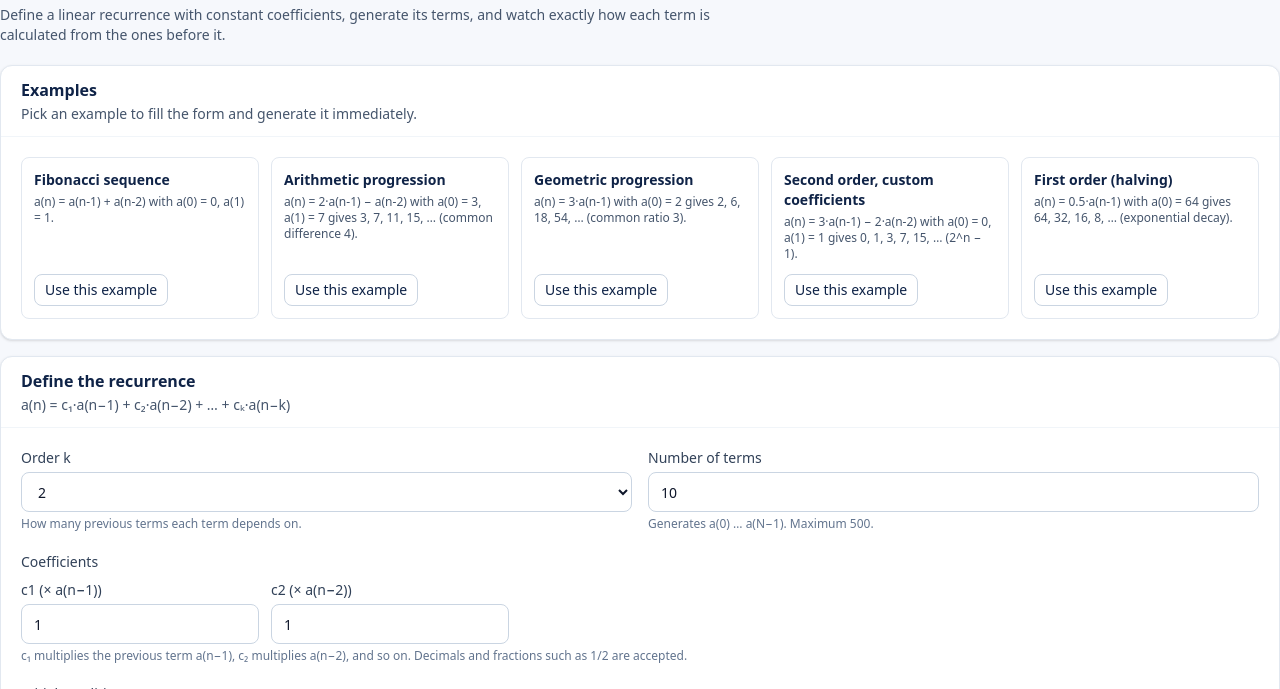
Scenario: Recurrence Lab › generates the Fibonacci example and shows formula, initial conditions and terms
This screenshot has width=1280, height=689.
Click the button with aria-label "use example: fibonacci sequence" at point(101, 290), box top-left (34, 274), bottom-right (168, 306)
(page scrolled)
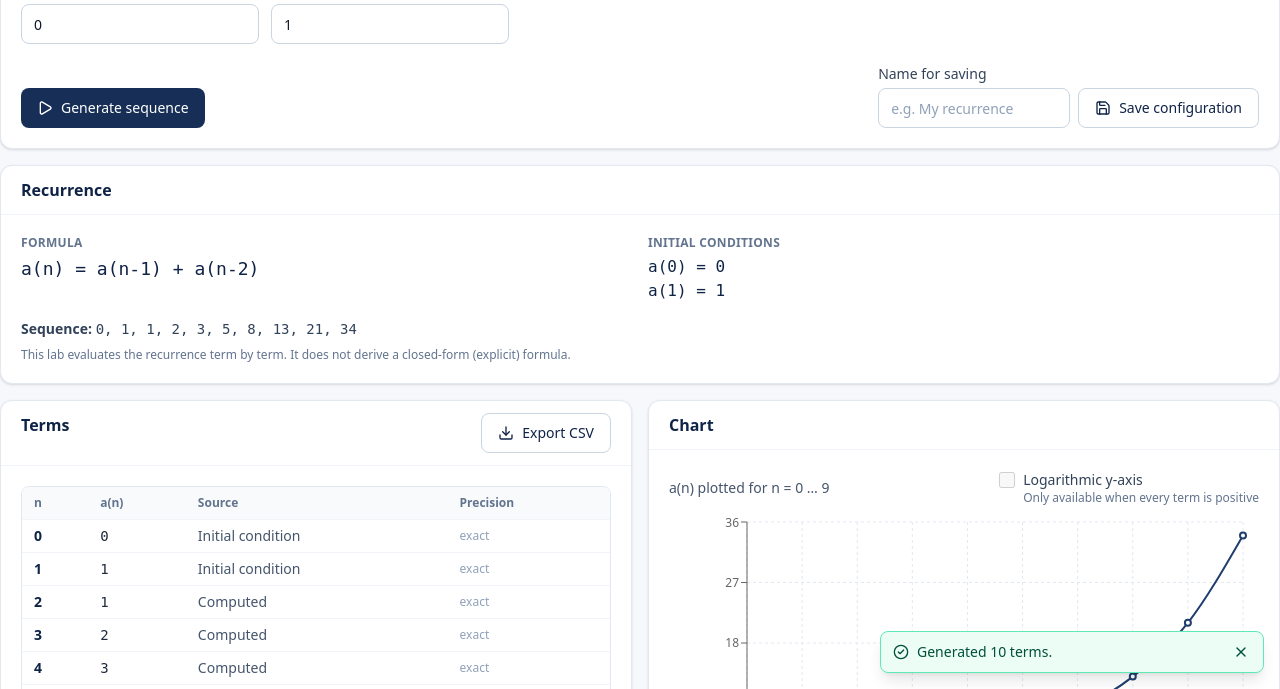
Expected: the text with test id "formula" reads "a(n) = a(n-1) + a(n-2)", top-left (21, 258), bottom-right (259, 279)
Expected: the list with test id "initial-conditions" shows "a(0) = 0", top-left (648, 257), bottom-right (725, 276)
Expected: the list with test id "initial-conditions" shows "a(1) = 1", top-left (648, 281), bottom-right (725, 300)
